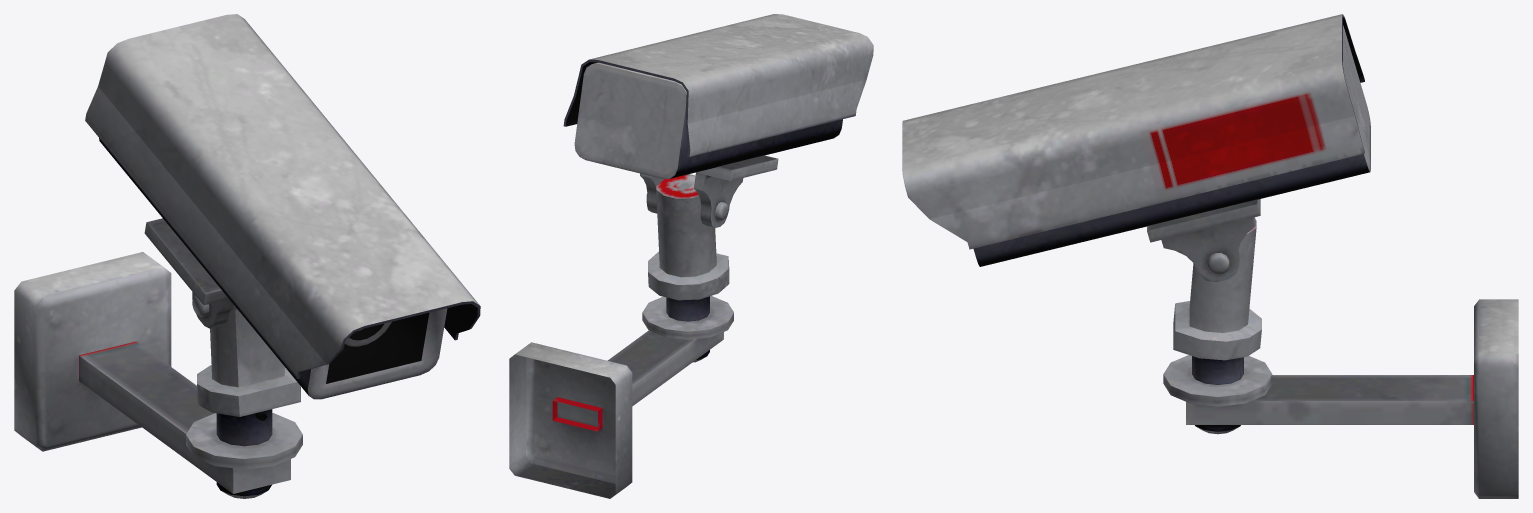
The model's file is CameraPivot.fbx.
The picture shows the model from 3 angles, left to right: view 1: azimuth 30°, elevation 25°; view 2: azimuth 150°, elevation 25°; view 3: azimuth 270°, elevation 25°; orthographic projection. The views are drawn at different scales.
Parts seen in each view (by area): view 1: PivotCamera, security_cam01_ai; view 2: PivotCamera, security_cam01_ai; view 3: PivotCamera, security_cam01_ai.
Part boxes in pixels (box(x1,y1,x2,y2)): PivotCamera: box(85, 14, 480, 498); security_cam01_ai: box(14, 252, 302, 493); PivotCamera: box(563, 14, 873, 362); security_cam01_ai: box(509, 296, 733, 498); PivotCamera: box(902, 14, 1370, 434); security_cam01_ai: box(1163, 299, 1518, 498).
Size of the model in its own units: 19.42 by 53.61 by 69.3.
